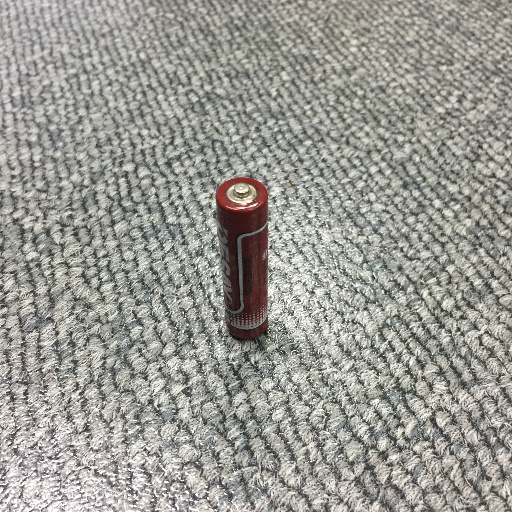Battery_0: (208, 163, 287, 352)
